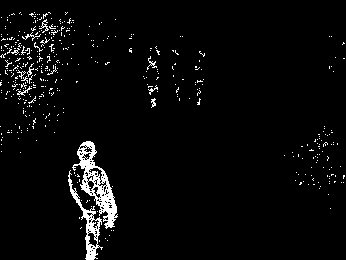person: (69, 138, 119, 260), (144, 57, 160, 108)
